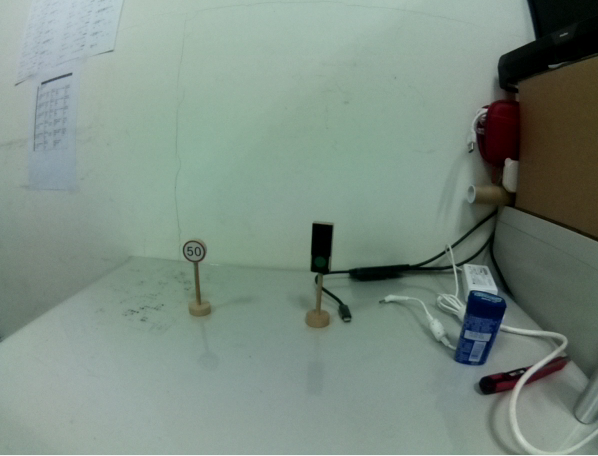Green: (308, 222, 337, 276)
Speed50: (182, 238, 207, 264)
